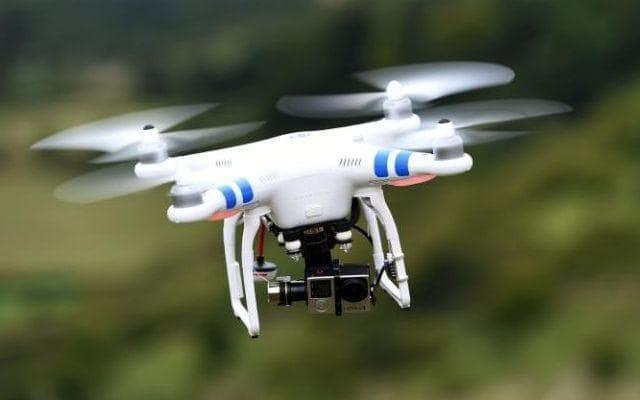UAV: (133, 79, 477, 341)
